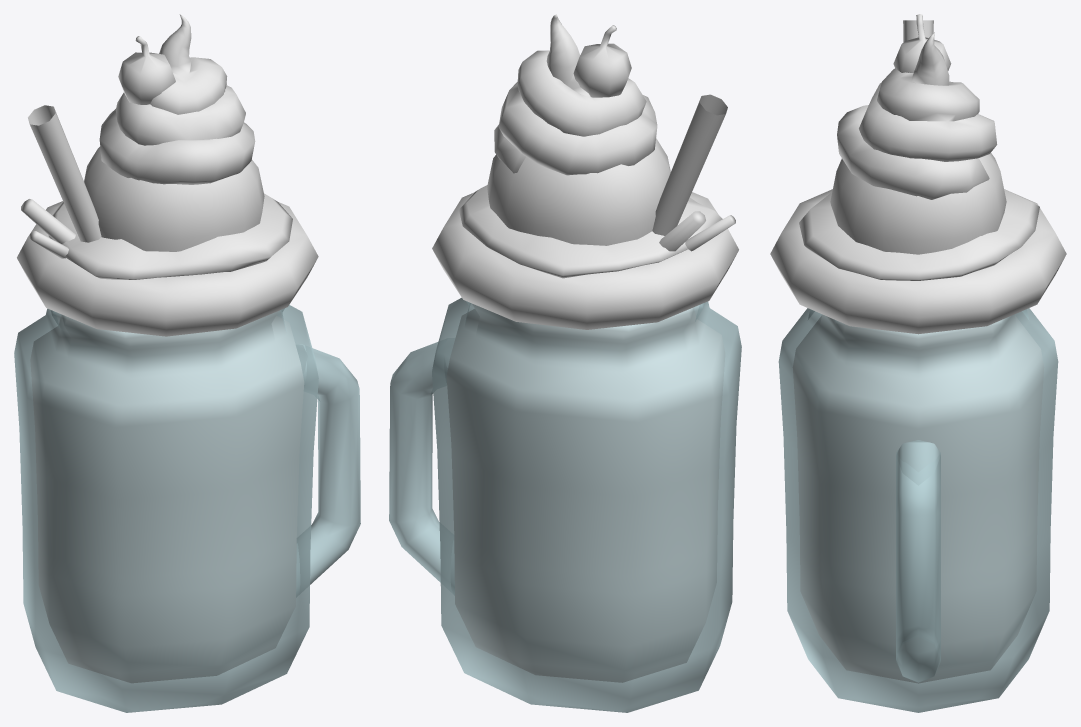
Rendered from M_Freakshake1.fbx.
3 views of the same model, side by side, from view 1: azimuth 30°, elevation 25°; view 2: azimuth 150°, elevation 25°; view 3: azimuth 270°, elevation 25° (orthographic).
Visible parts, largest first — view 1: Freakshake1, Freakshake1.001; view 2: Freakshake1, Freakshake1.001; view 3: Freakshake1, Freakshake1.001.
Part boxes in pixels (left/top/right/bottom): Freakshake1: left=17, top=14, right=318, bottom=682; Freakshake1.001: left=14, top=305, right=360, bottom=712; Freakshake1: left=432, top=14, right=738, bottom=682; Freakshake1.001: left=389, top=297, right=741, bottom=712; Freakshake1: left=770, top=14, right=1066, bottom=683; Freakshake1.001: left=778, top=308, right=1058, bottom=712.
Size of the model in its own units: 26.72 by 50.4 by 20.65.
